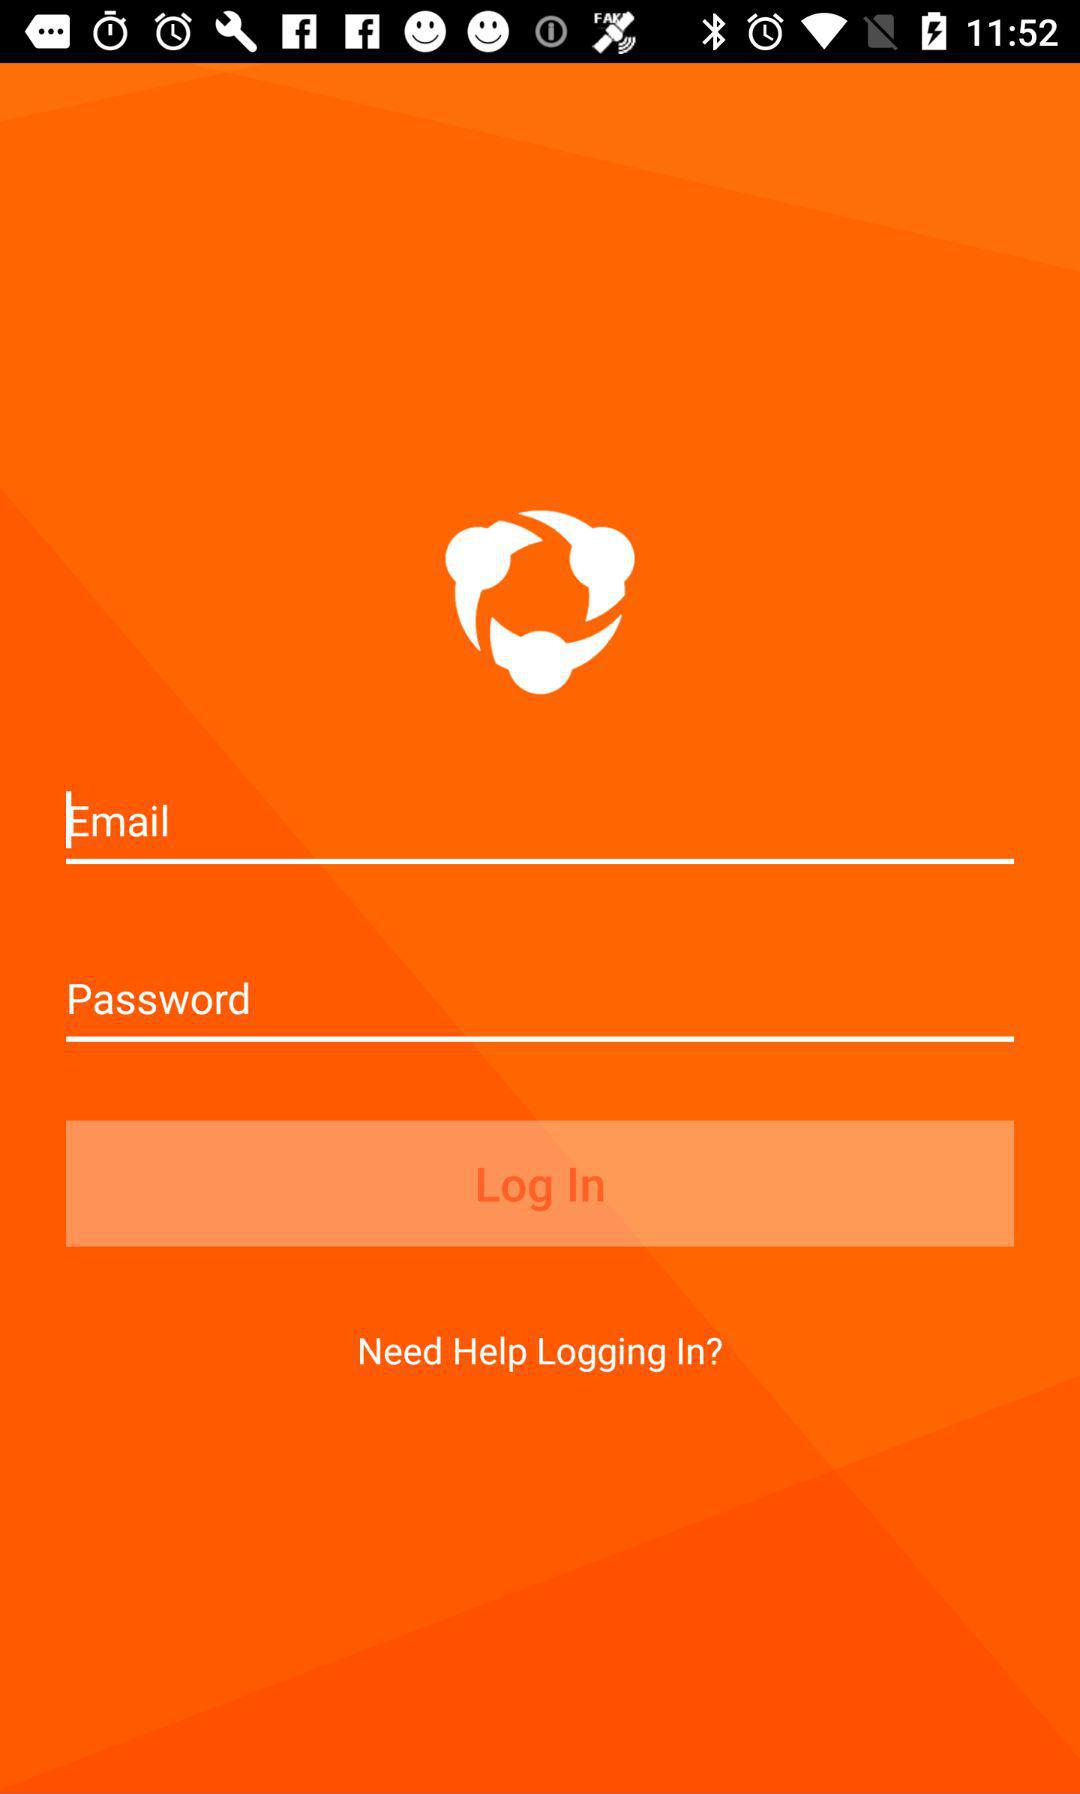EditText: (67, 789, 1015, 866), (67, 980, 1015, 1043)
Image: (445, 509, 637, 697)
Text: (360, 1335, 724, 1374), (69, 982, 250, 1017), (70, 805, 169, 838)
TextButton: (67, 1120, 1015, 1248)
UpperTaskBar: (1, 1, 1080, 64)
